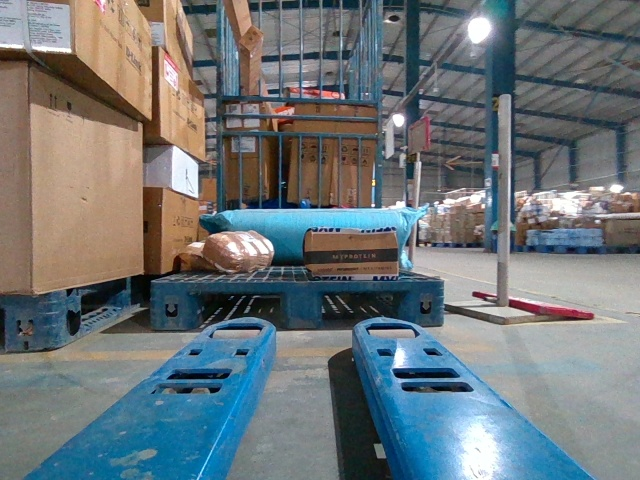block: (148, 280, 199, 332), (399, 280, 444, 329), (284, 281, 321, 331)
front: (151, 280, 443, 330)
hole pallet: (183, 288, 288, 334), (311, 287, 411, 332)
